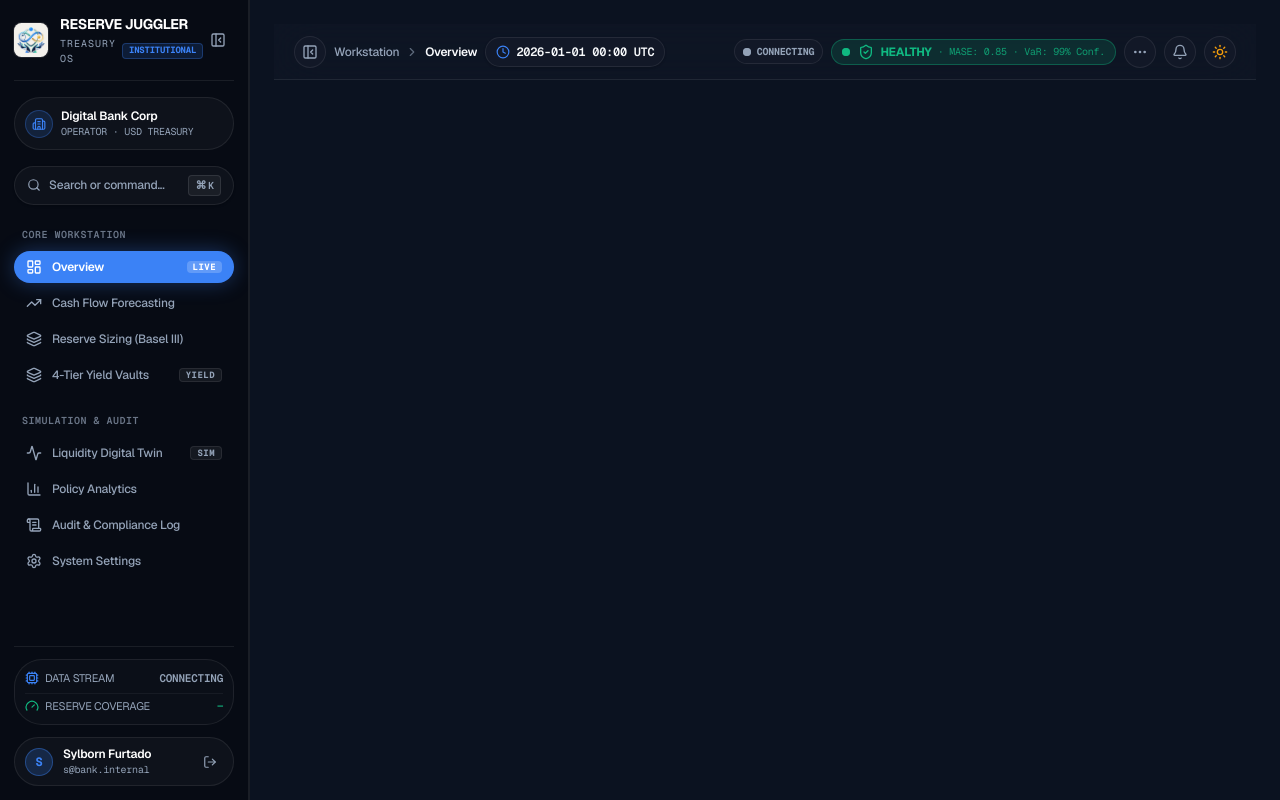
Test: top bar › shows the clock on one compact line and tucks quick actions into a menu
Check: the text "2026-01-01 00:00 UTC" is shown, box [516,44,654,60]
Check: the text "Sweep 17:00" is not shown
Click the button with test id "topbar-actions": click(1140, 52) [1124,36,1156,68]
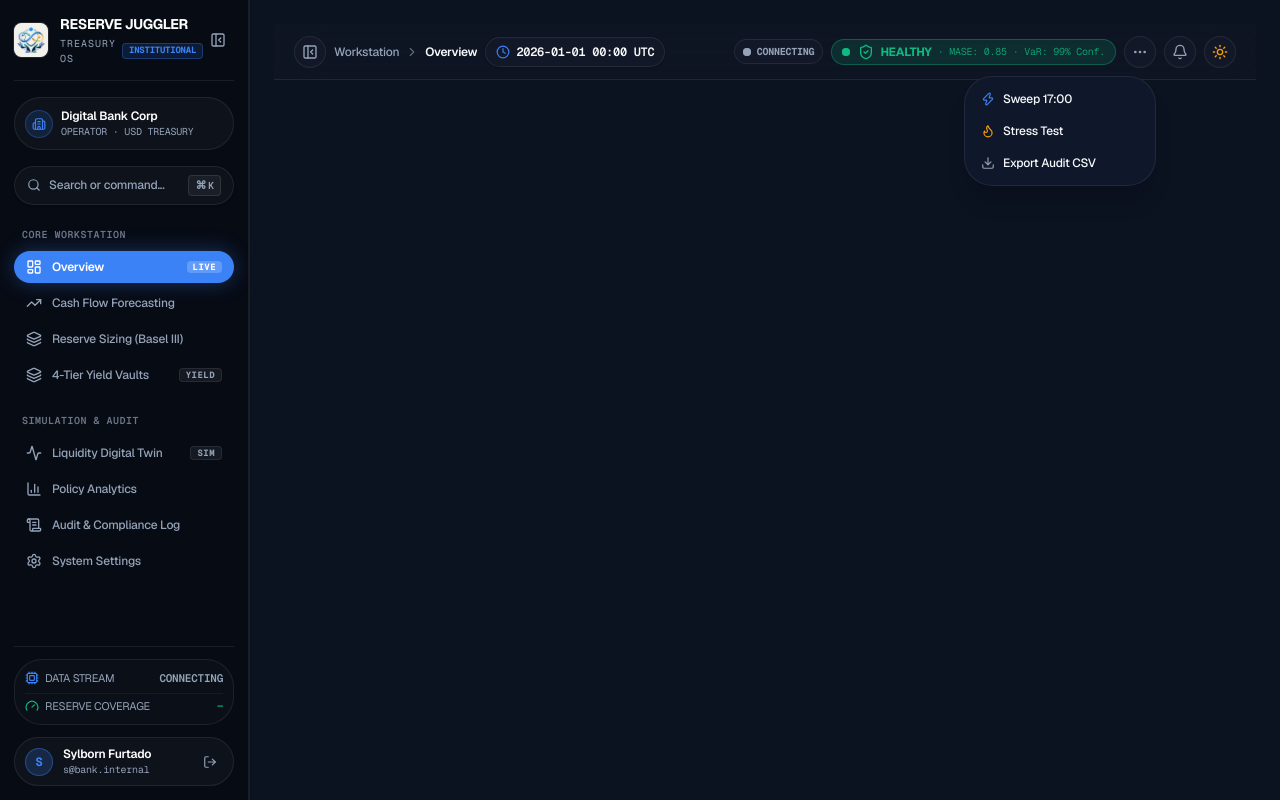
Check: the menu item "Sweep 17:00" is shown, box [971,82,1149,114]
Check: the menu item "Stress Test" is shown, box [971,114,1149,146]
Check: the menu item "Export Audit CSV" is shown, box [971,146,1149,178]
